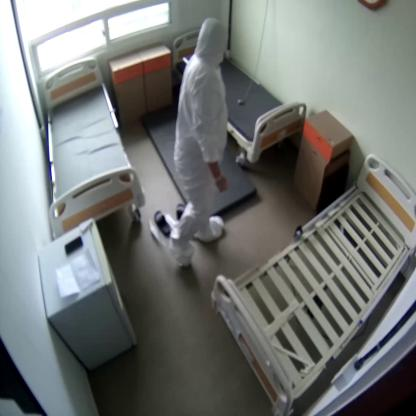Person: (171, 17, 230, 263)
